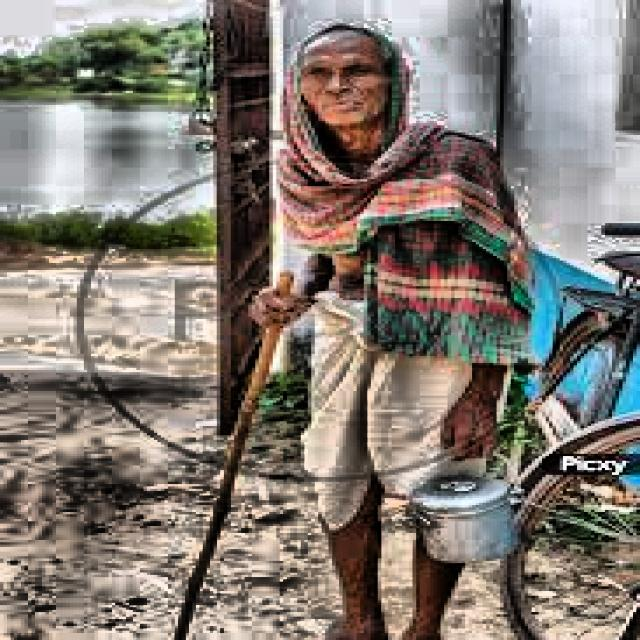Human: (240, 28, 537, 640)
